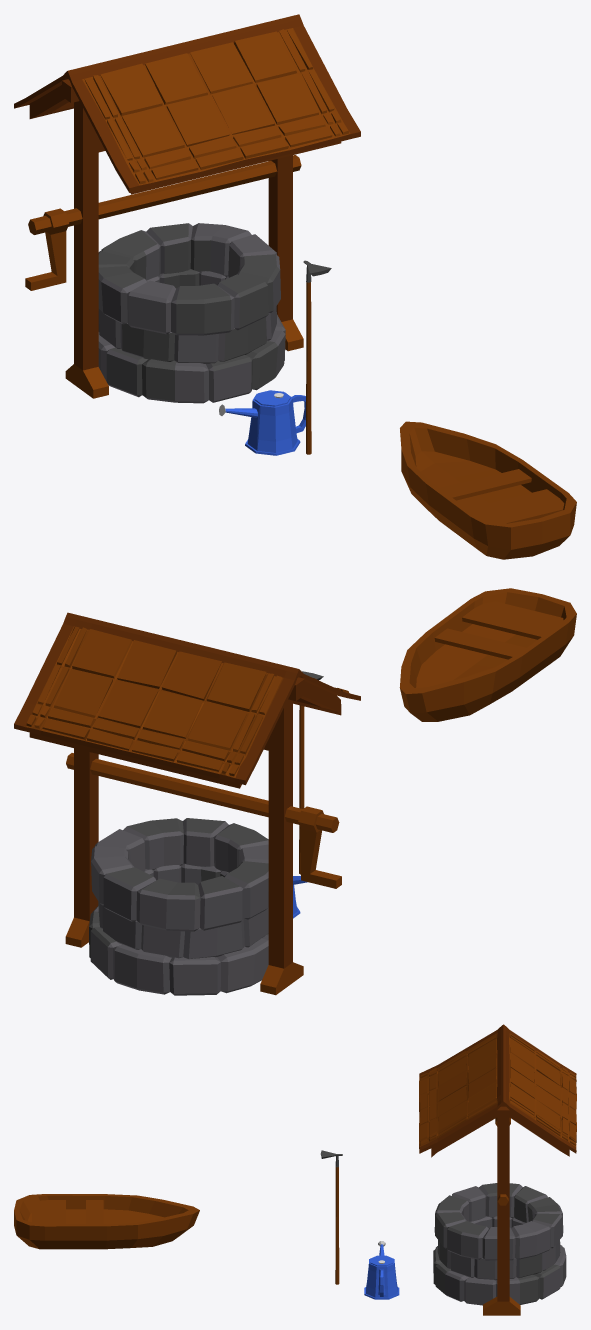
The model's file is kolodec.fbx.
The picture shows the model from 3 angles, top to bottom: view 1: azimuth 30°, elevation 25°; view 2: azimuth 150°, elevation 25°; view 3: azimuth 270°, elevation 25°; orthographic projection. The views are drawn at different scales.
Parts seen in each view (by area): view 1: kolodec, Cube, leyka, motiga; view 2: kolodec, Cube, motiga; view 3: kolodec, Cube, leyka, motiga.
Boxes of the visible parts, x1,y1,x2,y2 form: kolodec: (14, 14, 360, 403); Cube: (400, 421, 576, 559); leyka: (219, 390, 305, 455); motiga: (303, 260, 331, 454); kolodec: (14, 612, 360, 995); Cube: (399, 588, 576, 721); motiga: (299, 671, 323, 874); kolodec: (419, 1024, 576, 1315); Cube: (14, 1194, 199, 1249); leyka: (364, 1241, 399, 1299); motiga: (320, 1150, 342, 1284).
Bounding box in the file's own units: 1551 × 1831 × 4071.
